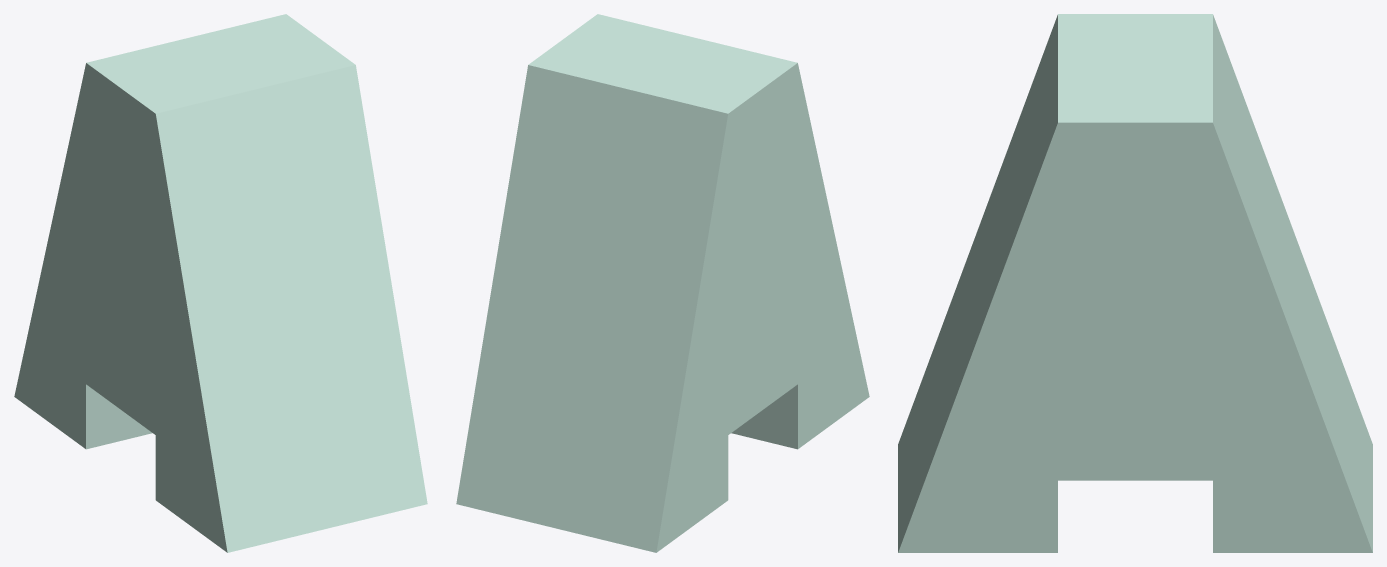
The picture shows the model from 3 angles, left to right: view 1: azimuth 30°, elevation 25°; view 2: azimuth 150°, elevation 25°; view 3: azimuth 270°, elevation 25°; orthographic projection. The views are drawn at different scales.
Parts seen in each view (by area): view 1: Renderer Node; view 2: Renderer Node; view 3: Renderer Node.
Boxes of the visible parts, left/top/right/bottom form: Renderer Node: left=14, top=14, right=427, bottom=552; Renderer Node: left=456, top=14, right=869, bottom=552; Renderer Node: left=898, top=14, right=1372, bottom=552.
Bounding box in the file's own units: 0.4063 × 0.75 × 0.75.
